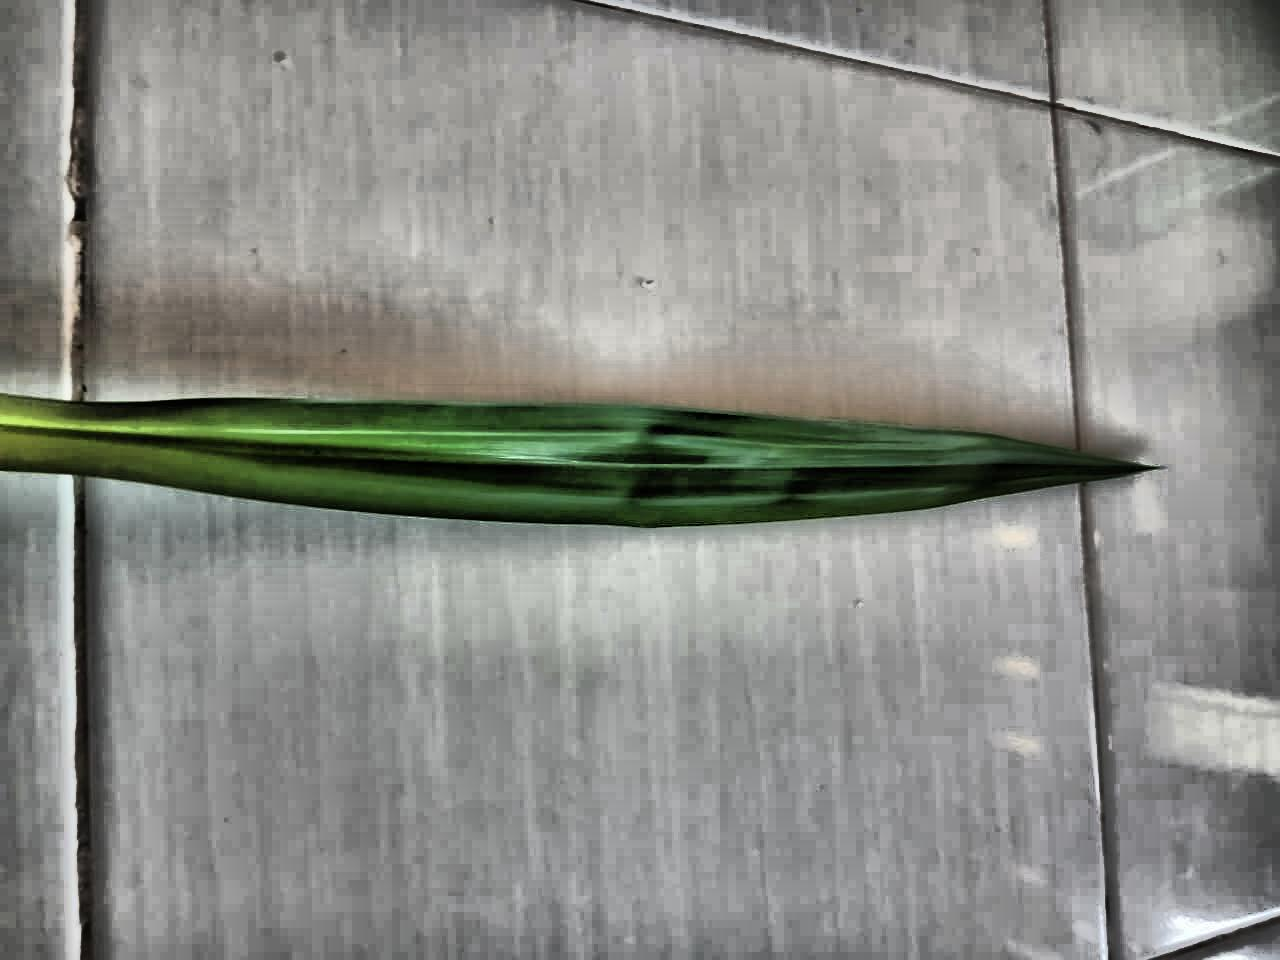daun pandan: (0, 394, 1153, 527)
